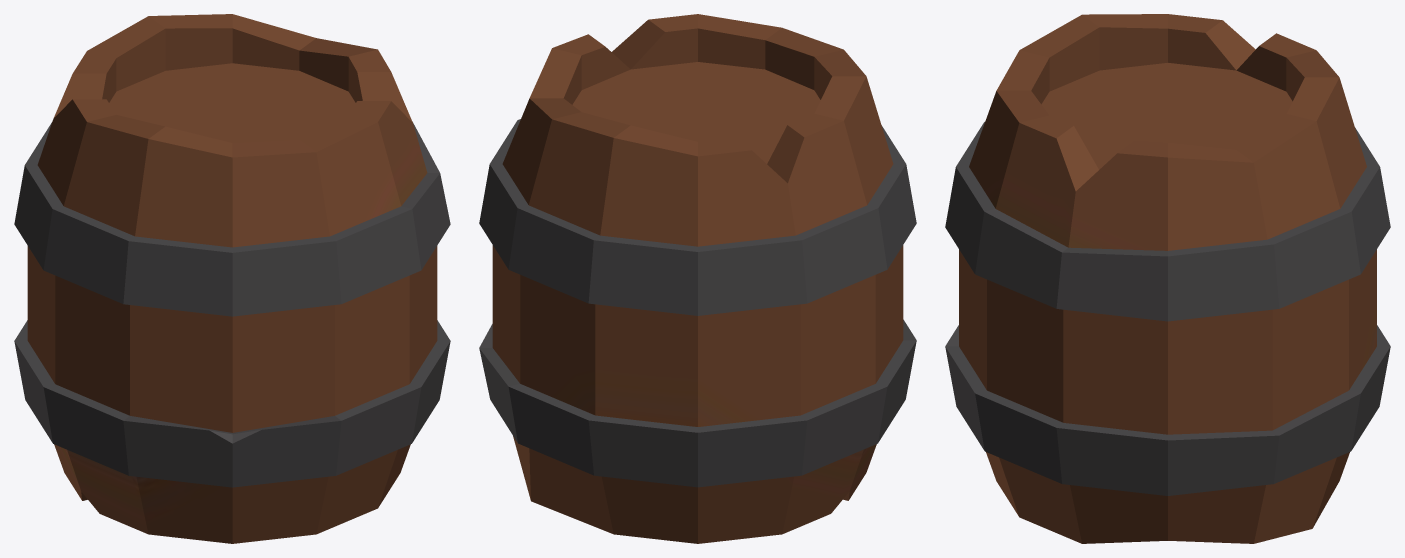
File: SM_BeerKeg_02.fbx
3 views of the same model, side by side, from view 1: azimuth 30°, elevation 25°; view 2: azimuth 150°, elevation 25°; view 3: azimuth 270°, elevation 25° (orthographic). The views are drawn at different scales.
Visible parts, largest first — view 1: Barril 01; view 2: Barril 01; view 3: Barril 01.
Part boxes in pixels (x1,y1,x2,y2): Barril 01: (14,14,450,543); Barril 01: (479,14,916,543); Barril 01: (945,14,1390,543).
Size of the model in its own units: 1 by 1 by 1.
1 material, 1 textured.
